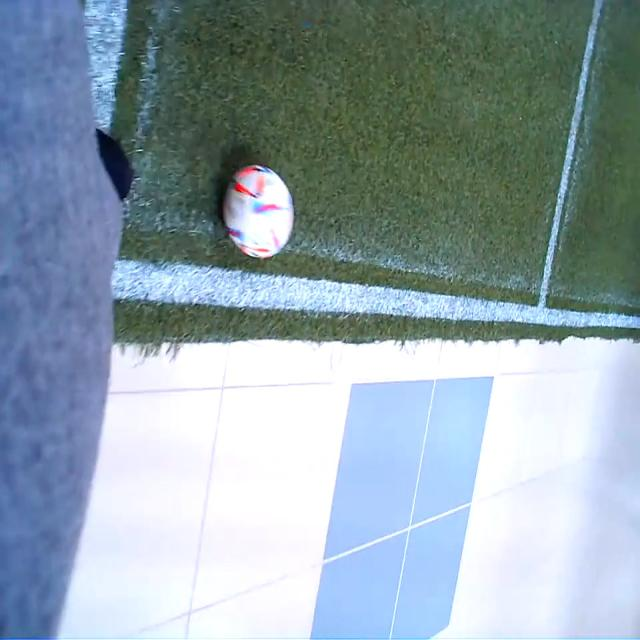ball: (223, 163, 295, 259)
